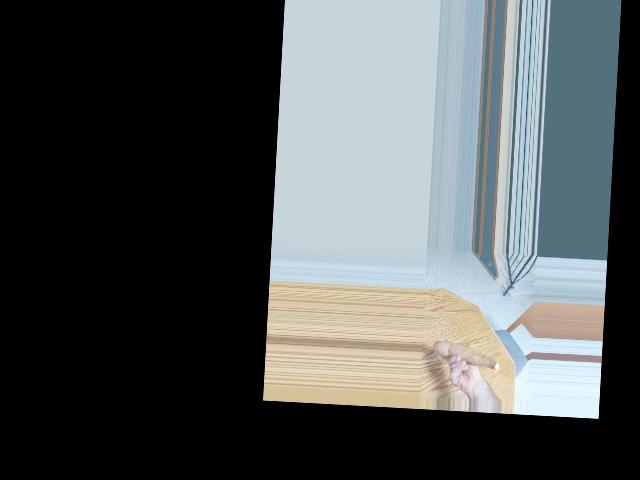sweet_potato: (433, 337, 501, 371)
